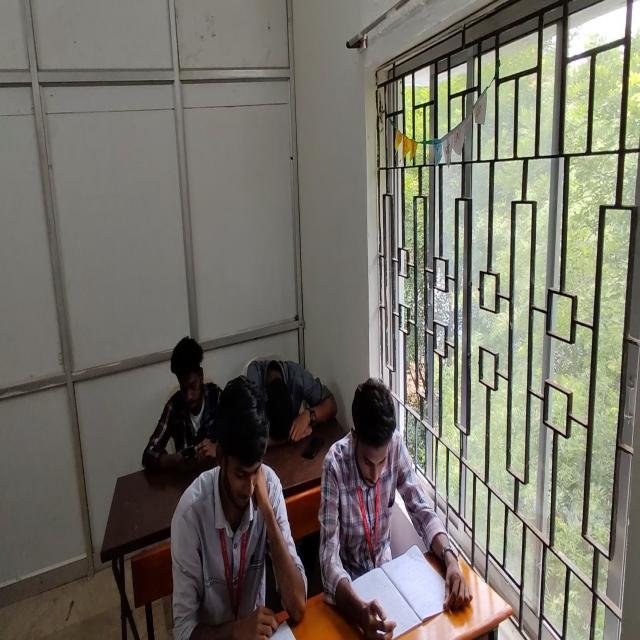reading: (169, 371, 307, 640), (332, 376, 454, 633)
sleeping: (245, 358, 335, 448)
using_mobile: (141, 334, 221, 472)
